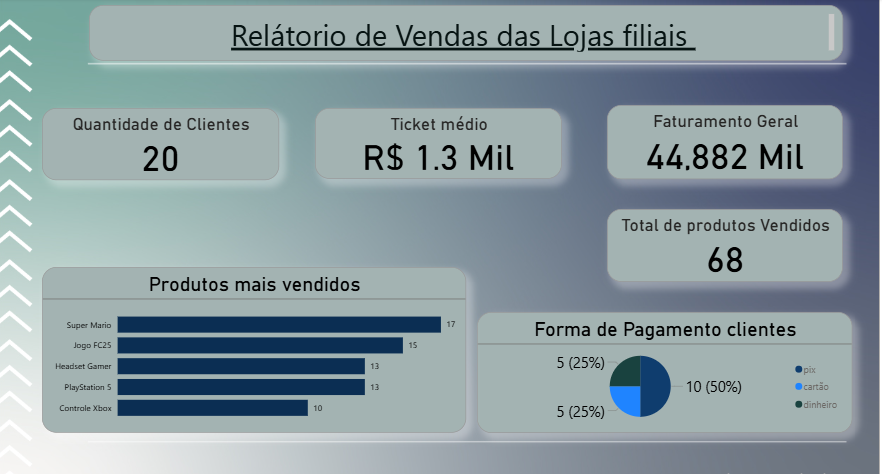

Layout of this report page (visuals, bound fields, positions):
{"tool":"powerbi","page":{"name":"Página 1","canvas":[1280,720],"ordinal":0},"visuals":[{"type":"pieChart","title":"Forma de Pagamento clientes","fields":{"Category":["Pagamento.tipo"],"Y":["CountNonNull(Cliente.nome)"]},"box":[695.8,456.9,545.8,176.1],"z":0},{"type":"card","title":"Faturamento Geral","fields":{"Values":["Produto.Fat Total"]},"box":[884.4,155.6,343.3,107.6],"z":1000},{"type":"textbox","box":[130.9,10.2,1096.7,81.5],"z":2000},{"type":"barChart","title":"Produtos mais vendidos","fields":{"Category":["Produto.nome"],"Y":["Sum(Compra.Quantidade)"]},"box":[62.5,391.3,616.7,241.5],"z":3000},{"type":"card","title":"Total de produtos Vendidos","fields":{"Values":["Sum(Compra.Quantidade)"]},"box":[884.4,306.9,343.3,106.2],"z":4000},{"type":"card","title":"Ticket médio","fields":{"Values":["Compra.Ticket médio"]},"box":[459.6,160,359.3,103.3],"z":5000},{"type":"card","title":"Quantidade de Clientes","fields":{"Values":["Compra.Qtd cliente"]},"box":[62.5,160,344.7,104.7],"z":6000}]}

Visuals, with their boxes on the page's 1280x720 design canvas (x1, y1, x2, y2). These are canvas units, not pixel positions in the 882x474 screenshot, which may show the page scaled, cropped or inside an application window:
"Forma de Pagamento clientes" pieChart: (696, 457, 1242, 633)
"Faturamento Geral" card: (884, 156, 1228, 263)
textbox: (131, 10, 1228, 92)
"Produtos mais vendidos" barChart: (62, 391, 679, 633)
"Total de produtos Vendidos" card: (884, 307, 1228, 413)
"Ticket médio" card: (460, 160, 819, 263)
"Quantidade de Clientes" card: (62, 160, 407, 265)
